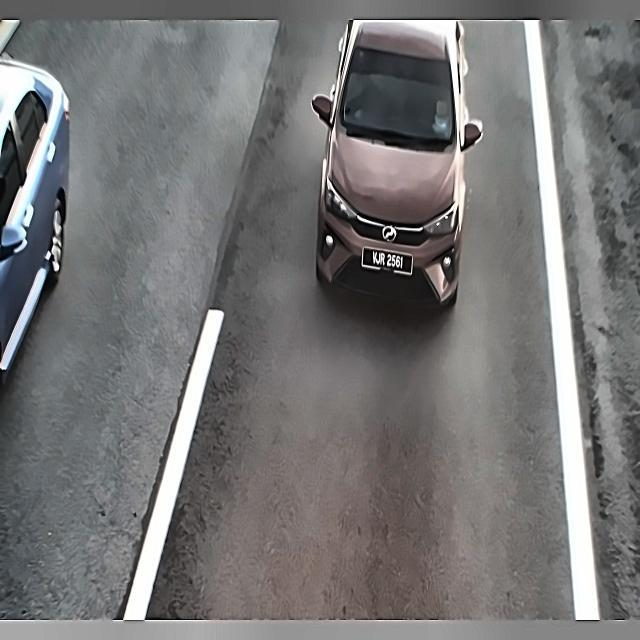car: (356, 239, 415, 278)
